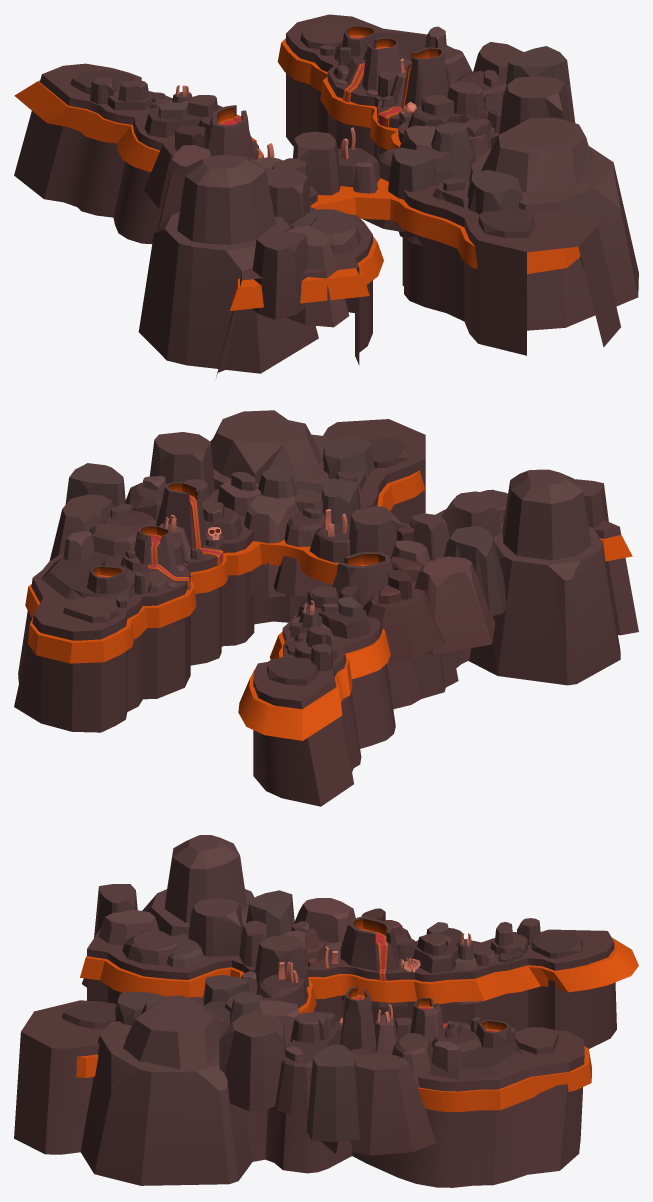
3 renders of one model, top to bottom at view 1: azimuth 30°, elevation 25°; view 2: azimuth 150°, elevation 25°; view 3: azimuth 270°, elevation 25°, orthographic. The views are drawn at different scales.
Parts seen in each view (by area): view 1: Map04_Environment; view 2: Map04_Environment; view 3: Map04_Environment.
Part boxes in pixels (box(x1,y1,x2,y2)): Map04_Environment: box(14, 14, 638, 379); Map04_Environment: box(14, 410, 638, 806); Map04_Environment: box(14, 835, 638, 1187).
Size of the model in its own units: 57.51 by 20.52 by 69.04.
1 material, 1 textured.
